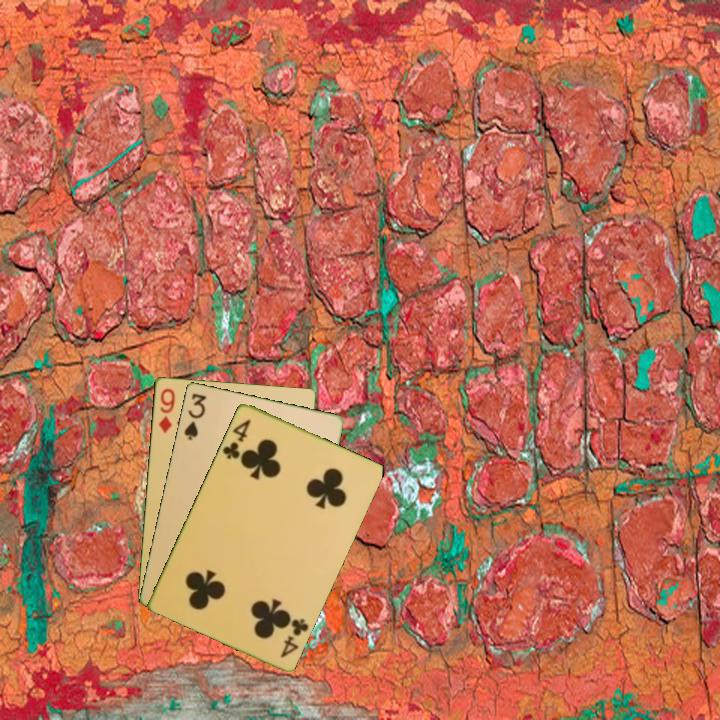3s: (180, 389, 209, 443)
4c: (277, 614, 312, 661), (219, 415, 253, 462)
9d: (155, 384, 178, 436)
